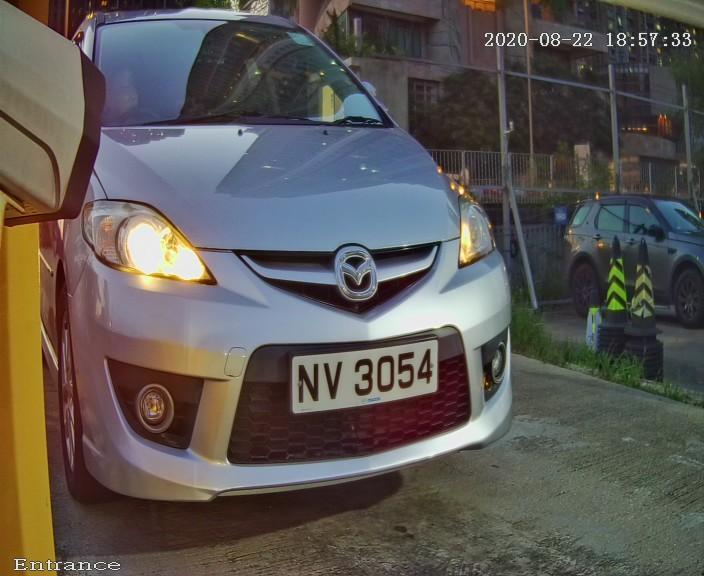License Plate: (266, 322, 460, 434)
